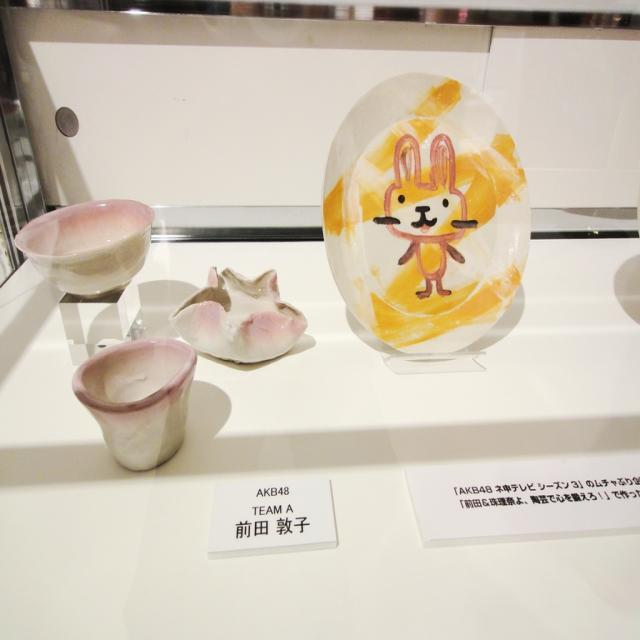ceramic plate: (293, 61, 555, 366)
